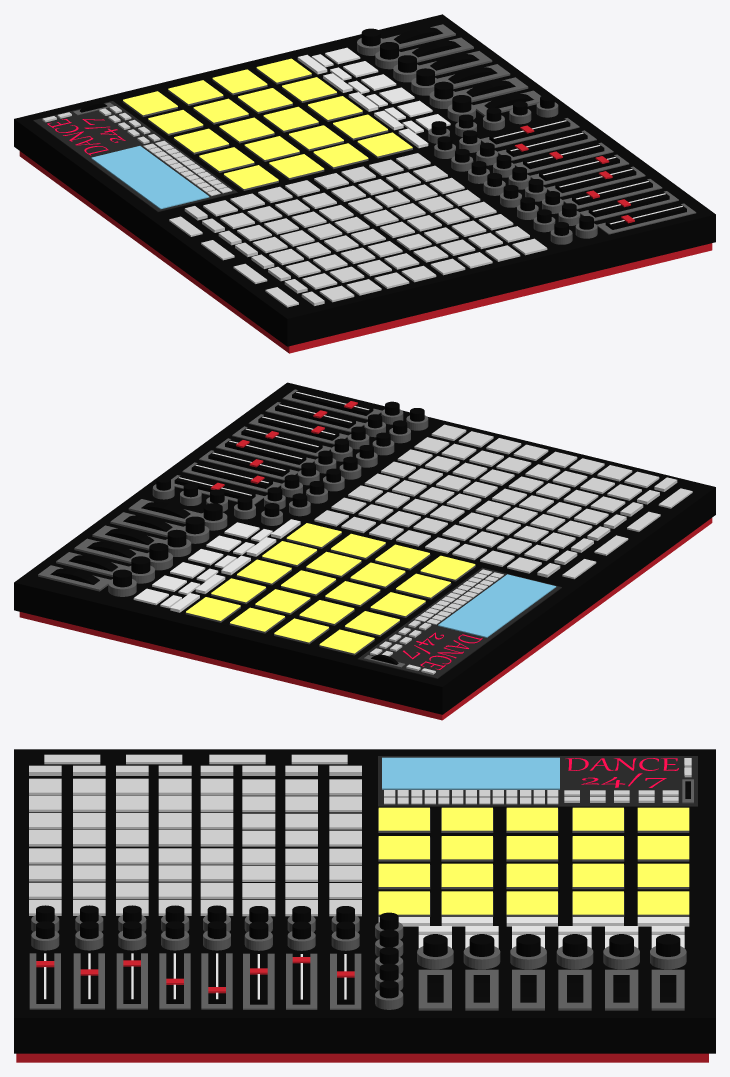
Rendered from DNCE.fbx.
3 renders of one model, top to bottom at view 1: azimuth 30°, elevation 25°; view 2: azimuth 150°, elevation 25°; view 3: azimuth 270°, elevation 25°, orthographic. The views are drawn at different scales.
Parts seen in each view (by area): view 1: topBase, Cube.138, bottomBase, topPanel, screen, pad14, pad5, pad8, pad2.002, pad13, pad1, pad10.002 (+21 smaller); view 2: topBase, Cube.138, topPanel, bottomBase, screen, pad9, pad16, pad10, pad12, pad15, pad6, pad7 (+22 smaller); view 3: topBase, Cube.138, topPanel, bottomBase, screen, pad2, pad9, pad10, pad1, pad4, pad6, pad8 (+107 smaller).
Boxes of the visible parts, x1,y1,x2,y2 form: topBase: [14, 14, 715, 346]; Cube.138: [118, 68, 416, 192]; bottomBase: [19, 151, 712, 353]; topPanel: [33, 101, 237, 211]; screen: [91, 146, 209, 209]; pad14: [219, 117, 274, 141]; pad5: [263, 106, 318, 130]; pad8: [333, 114, 387, 138]; pad2.002: [357, 132, 412, 156]; pad13: [174, 128, 228, 152]; pad1: [212, 69, 267, 93]; pad10.002: [269, 154, 324, 177]; topBase: [14, 382, 715, 714]; Cube.138: [181, 533, 479, 657]; topPanel: [357, 567, 561, 678]; bottomBase: [19, 518, 712, 720]; screen: [438, 574, 556, 637]; pad9: [319, 629, 374, 653]; pad16: [350, 562, 405, 586]; pad10: [274, 618, 328, 642]; pad12: [299, 600, 354, 623]; pad15: [396, 573, 450, 597]; pad6: [237, 559, 291, 583]; pad7: [306, 551, 361, 575]; topBase: [14, 749, 715, 1053]; Cube.138: [374, 809, 693, 918]; topPanel: [378, 756, 697, 806]; bottomBase: [16, 1053, 708, 1062]; screen: [382, 757, 559, 789]; pad2: [637, 891, 689, 914]; pad9: [637, 807, 689, 830]; pad10: [637, 836, 689, 859]; pad1: [637, 863, 689, 886]; pad4: [572, 891, 623, 914]; pad6: [506, 891, 557, 914]; pad8: [441, 891, 492, 914].
Size of the model in its own units: 272 by 32.26 by 300.
